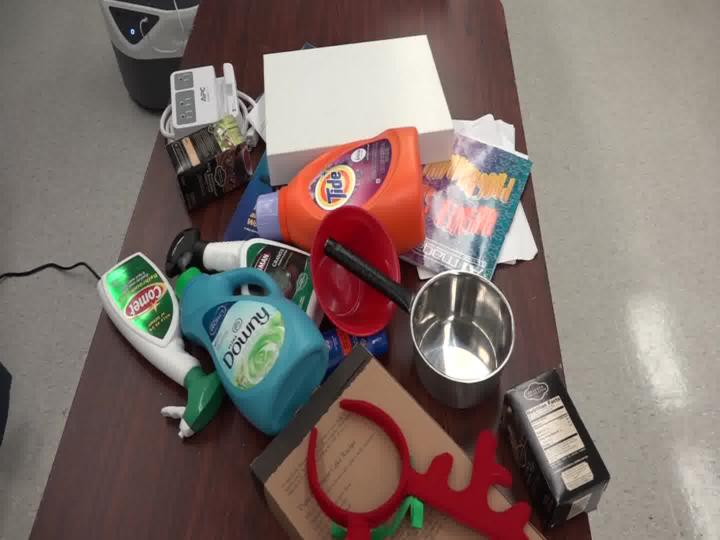tide: (239, 111, 441, 271)
